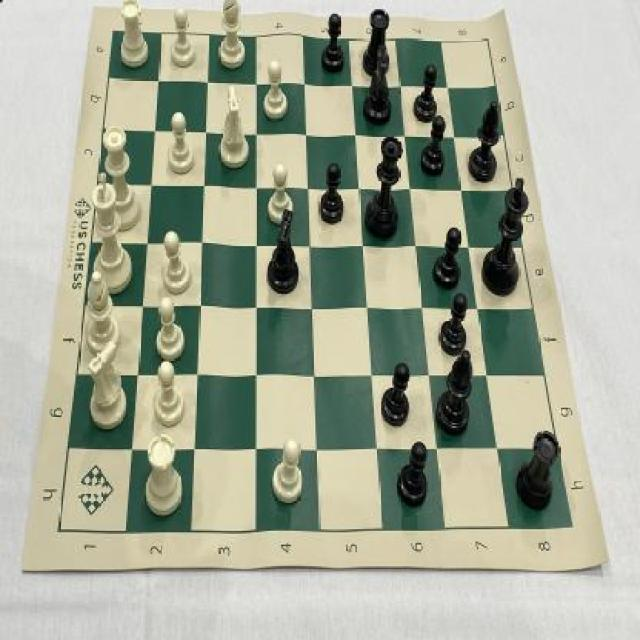bishop: (436, 351, 476, 437), (468, 97, 502, 184)
black-bishop: (483, 172, 531, 300)
black-king: (265, 206, 299, 296), (360, 45, 395, 126)
black-knight: (378, 360, 412, 432), (397, 438, 429, 511), (437, 292, 471, 356), (418, 115, 448, 180), (434, 225, 463, 289), (317, 163, 345, 226), (319, 12, 346, 74), (411, 63, 438, 123)
black-pawn: (366, 134, 402, 241)
black-queen: (512, 422, 560, 514), (360, 3, 392, 77)
black-rook: (82, 269, 120, 355), (216, 0, 248, 69)
white-bishop: (88, 171, 134, 297)
white-king: (83, 337, 128, 428), (216, 86, 248, 169)
white-knight: (269, 434, 303, 501), (152, 360, 185, 428), (258, 57, 290, 125), (154, 298, 187, 361), (160, 231, 192, 294), (264, 161, 294, 227), (166, 109, 195, 175), (169, 3, 197, 71)
white-pawn: (97, 123, 142, 235)
white-queen: (141, 431, 184, 520), (115, 0, 152, 70)
